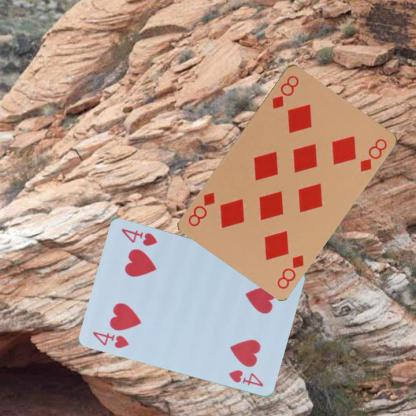4h: (90, 328, 131, 350)
8d: (274, 251, 305, 290), (270, 72, 300, 110)
